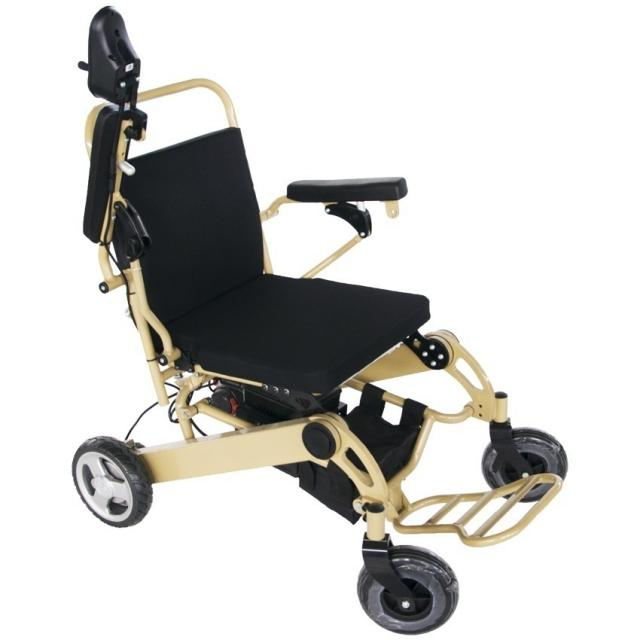wheelchair: (40, 0, 572, 635)
